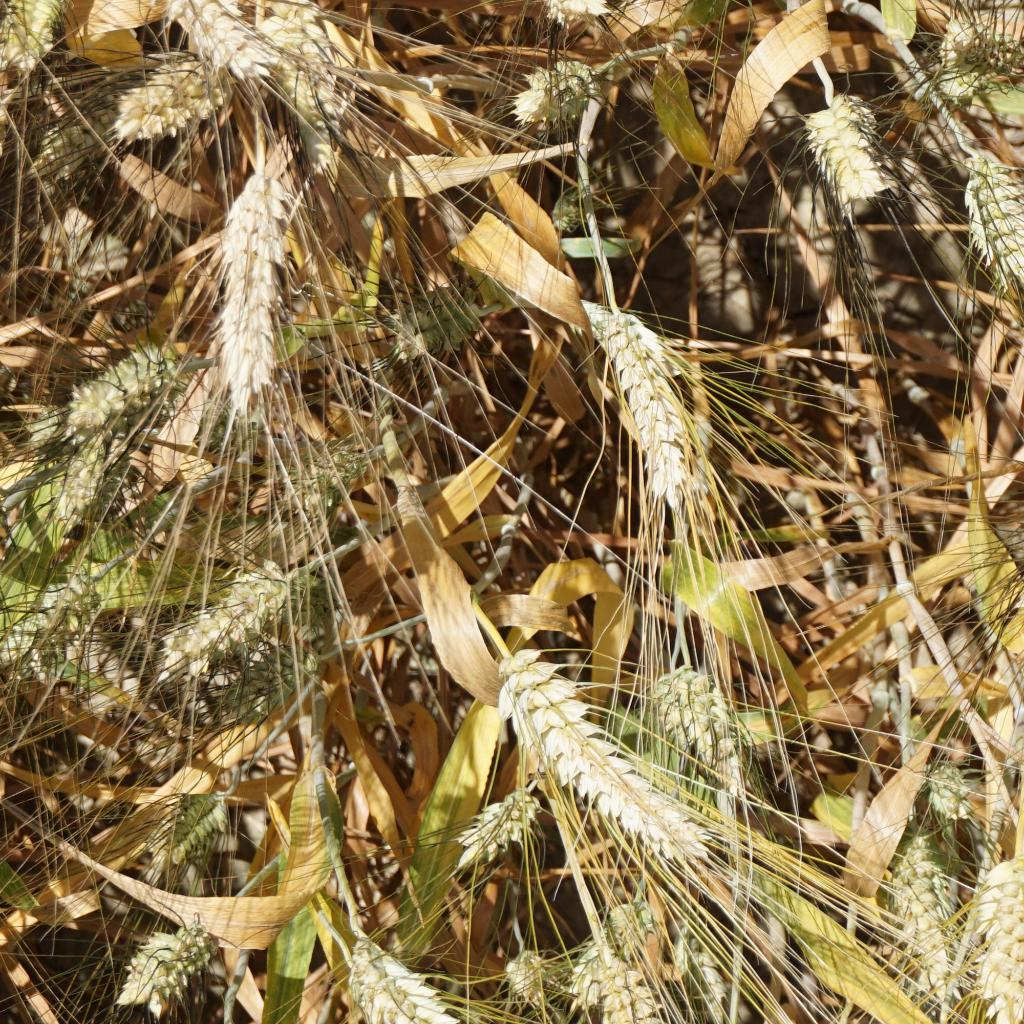0-0: (498, 644, 706, 858), (592, 310, 701, 513), (213, 163, 298, 399), (263, 0, 358, 155), (153, 564, 279, 664), (804, 90, 894, 214), (339, 929, 454, 1024), (48, 348, 175, 432), (889, 837, 959, 972), (112, 54, 226, 136), (656, 673, 745, 778), (123, 922, 218, 1014), (963, 153, 1024, 289), (663, 915, 740, 1020), (970, 855, 1024, 1001), (140, 0, 260, 63), (4, 575, 99, 654), (147, 774, 233, 856), (217, 648, 312, 722), (50, 444, 138, 521), (454, 783, 536, 865), (39, 79, 108, 172), (582, 936, 655, 1022), (300, 441, 387, 513), (382, 279, 477, 343), (516, 58, 610, 119), (933, 8, 1018, 75), (0, 0, 65, 73), (191, 404, 266, 464), (276, 570, 332, 641), (497, 943, 561, 1000), (925, 760, 974, 827), (547, 176, 596, 240), (607, 892, 662, 945)
